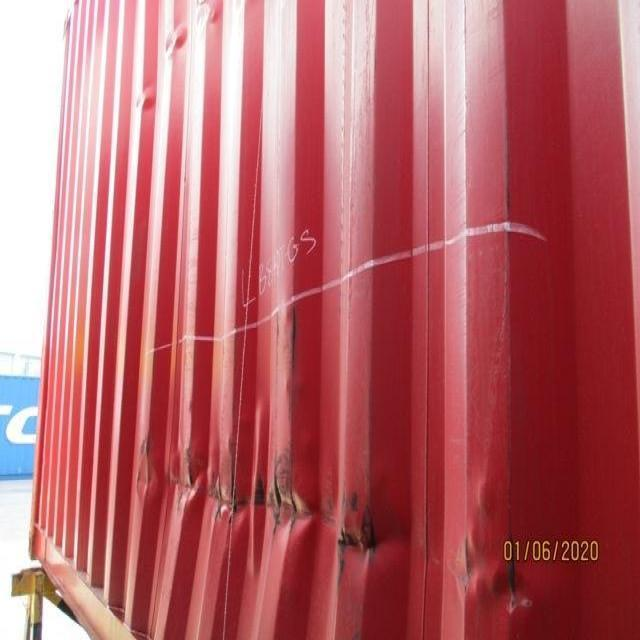dent: (114, 401, 580, 636), (131, 3, 230, 123)
